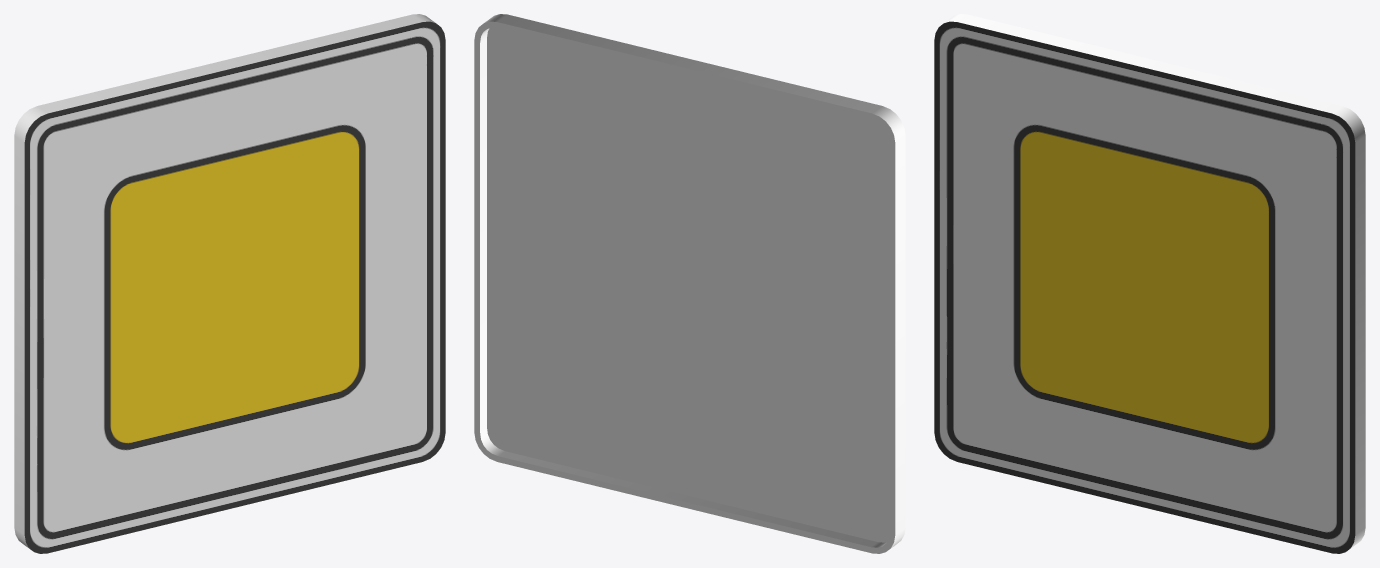
Rendered from Sign Square.FBX.
3 views of the same model, side by side, from view 1: azimuth 30°, elevation 25°; view 2: azimuth 150°, elevation 25°; view 3: azimuth 330°, elevation 25° (orthographic).
Visible parts, largest first — view 1: Sign Square; view 2: Sign Square; view 3: Sign Square.
Boxes of the visible parts, x1,y1,x2,y2 form: Sign Square: [14, 14, 445, 553]; Sign Square: [474, 14, 905, 553]; Sign Square: [934, 14, 1365, 553].
Size of the model in its own units: 70.54 by 70.43 by 3.
1 material, 1 textured.
